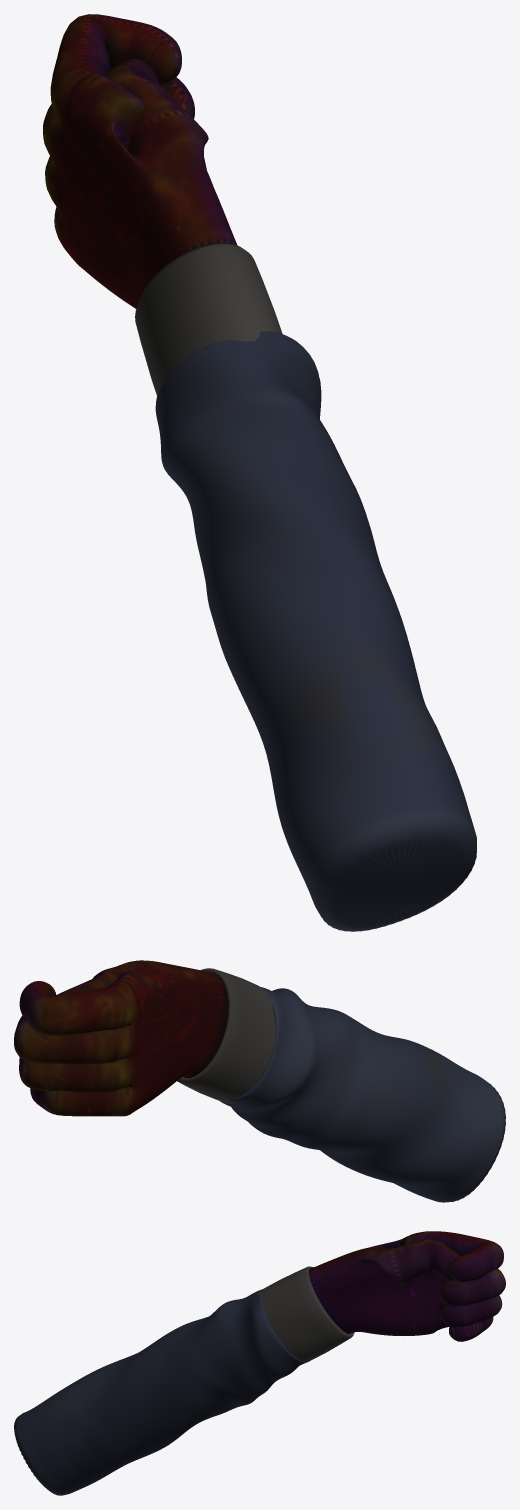
Rendered from fp_hand_L_small.glb.
3 renders of one model, top to bottom at view 1: azimuth 30°, elevation 25°; view 2: azimuth 150°, elevation 25°; view 3: azimuth 270°, elevation 25°, orthographic. The views are drawn at different scales.
Parts seen in each view (by area): view 1: fp_hand_L_small; view 2: fp_hand_L_small; view 3: fp_hand_L_small.
Part boxes in pixels (bbox=[...]): fp_hand_L_small: bbox=[43, 14, 476, 931]; fp_hand_L_small: bbox=[14, 960, 505, 1202]; fp_hand_L_small: bbox=[14, 1231, 505, 1495].
Bounding box in the file's own units: 0.1327 × 0.256 × 0.4013.
Materials: 3 (1 with a texture image).
